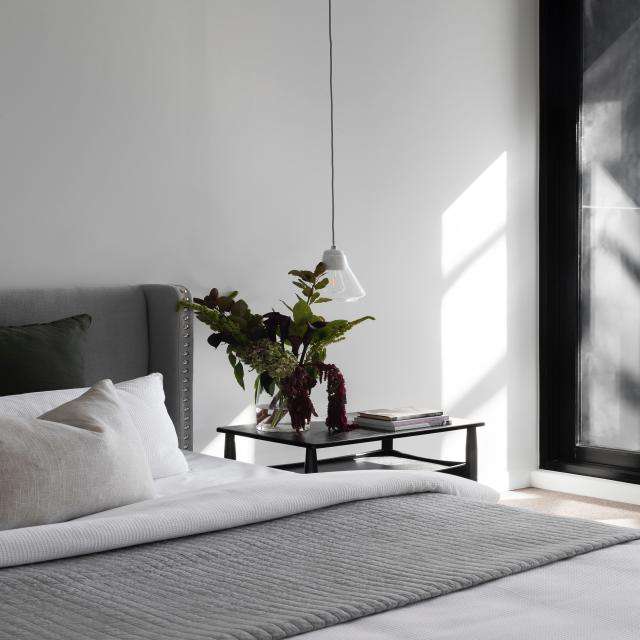floor: (498, 487, 640, 532)
